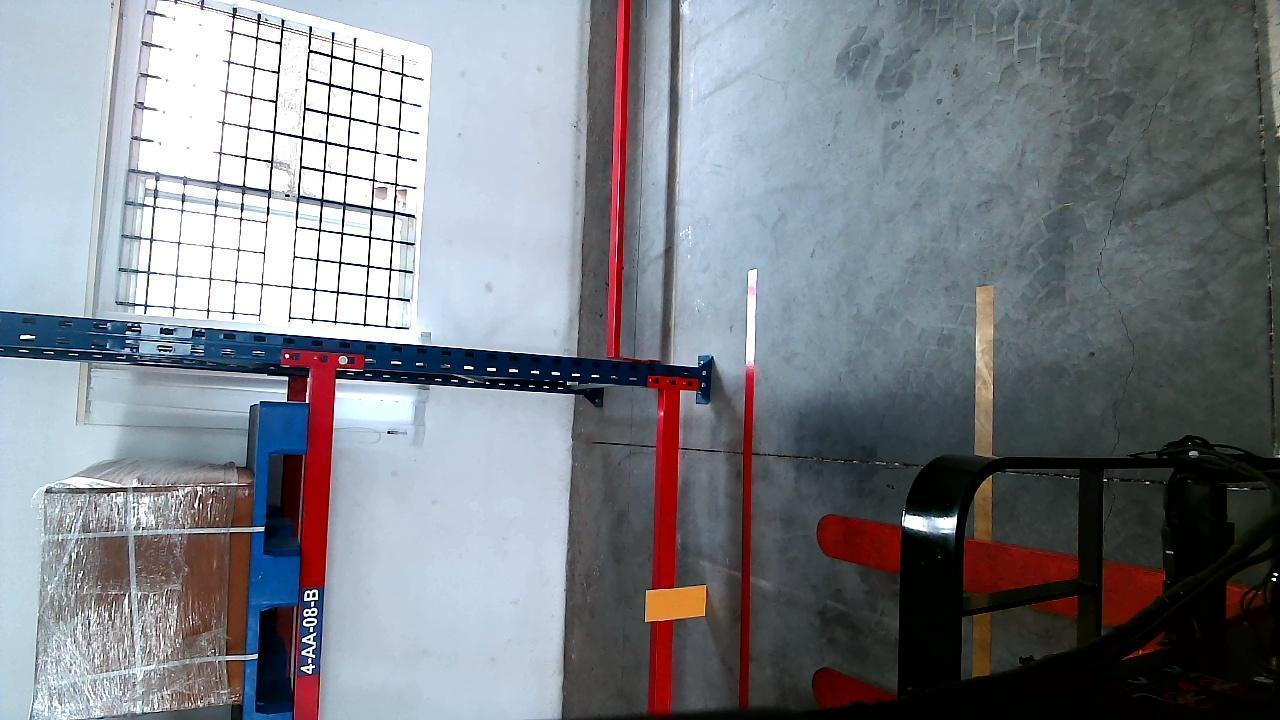red_line: (733, 272, 760, 720)
yellow_line: (973, 285, 994, 670)
